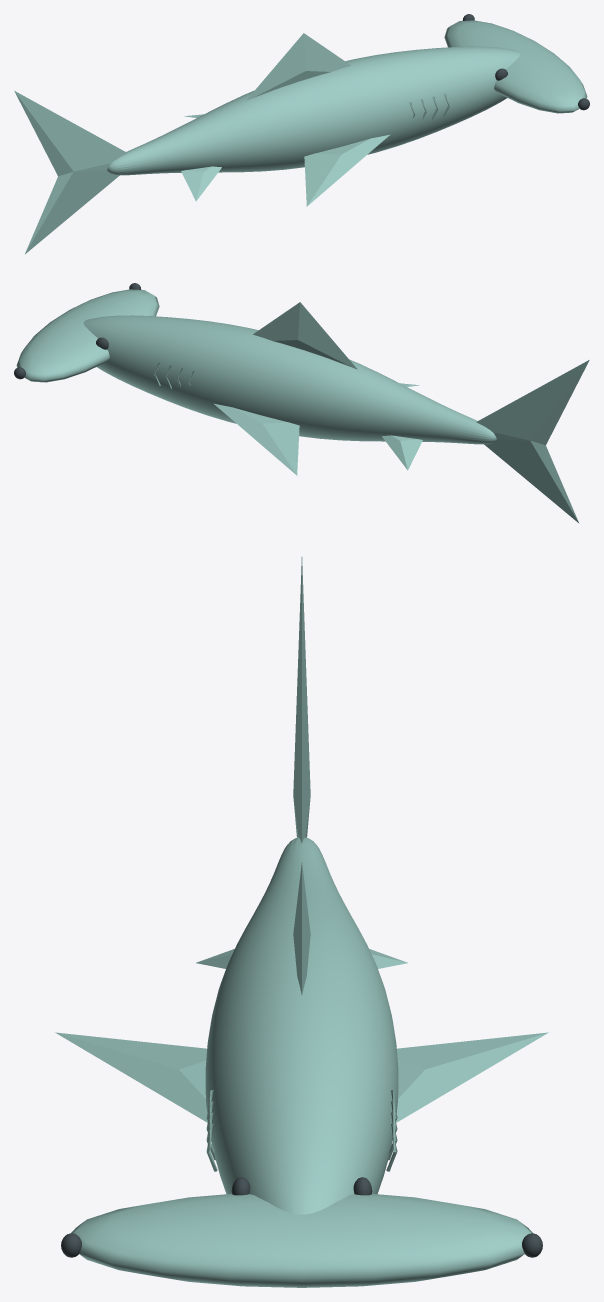
The picture shows the model from 3 angles, top to bottom: view 1: azimuth 30°, elevation 25°; view 2: azimuth 150°, elevation 25°; view 3: azimuth 270°, elevation 25°; orthographic projection. The views are drawn at different scales.
Parts seen in each view (by area): view 1: Body, Tail, Hammer head, Dorsal, Pectoral, Pelvic; view 2: Body, Tail, Hammer head, Dorsal, Pectoral.001, Pelvic.001; view 3: Body, Hammer head, Pectoral.001, Pectoral, Tail, Dorsal.
Part boxes in pixels (x1,y1,x2,y2): Body: (107,46,520,175); Tail: (14,91,127,253); Hammer head: (444,20,587,113); Dorsal: (246,33,350,100); Pectoral: (304,134,389,206); Pelvic: (181,166,221,201); Body: (83,315,496,444); Tail: (476,360,589,522); Hammer head: (16,289,159,382); Dorsal: (253,302,357,369); Pectoral.001: (214,403,299,475); Pelvic.001: (382,435,422,470); Body: (205,837,398,1214); Hammer head: (70,1194,533,1287); Pectoral.001: (396,1032,548,1122); Pectoral: (55,1032,207,1122); Tail: (293,557,310,843); Dorsal: (293,863,310,994).
Bounding box in the file's own units: 258 × 76 × 102.
